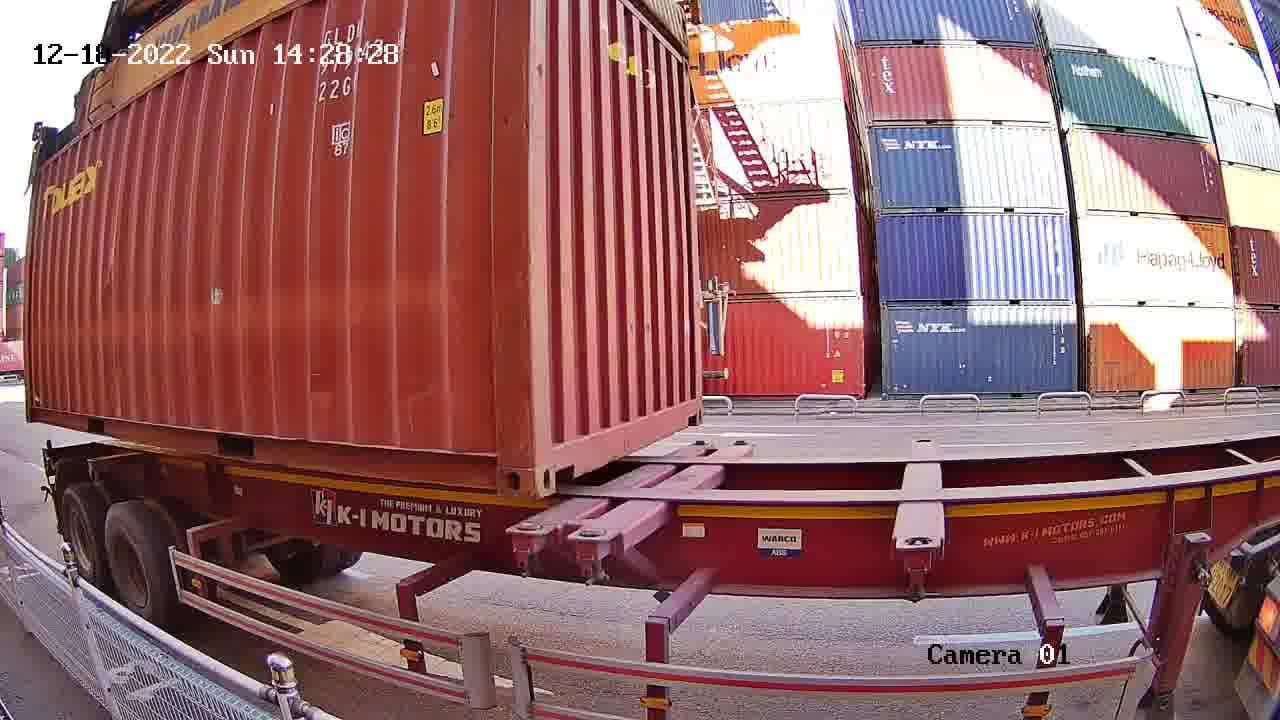Chassis: (567, 441, 755, 562), (508, 442, 713, 535)
Cone: (499, 520, 557, 578), (565, 526, 619, 585)
Hole_L: (534, 421, 583, 498)
Hole_R: (461, 428, 531, 495), (677, 379, 705, 432)
Tire: (103, 508, 161, 614), (58, 494, 97, 575)
